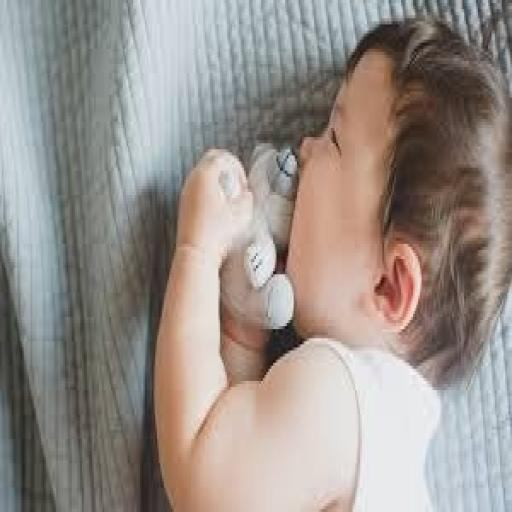baby: (154, 19, 511, 511)
